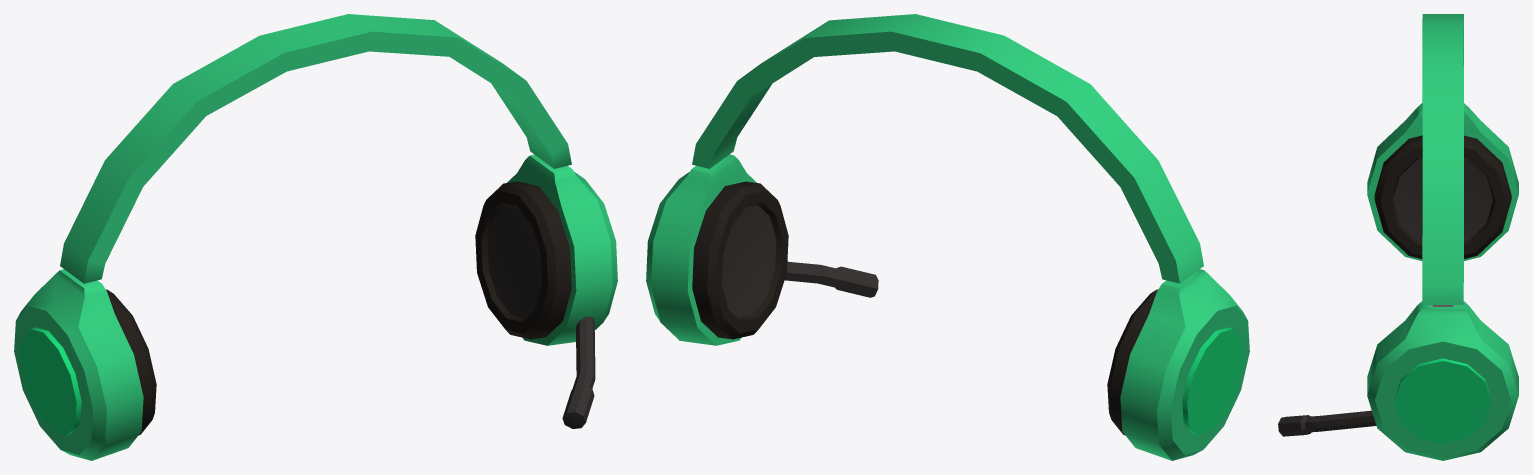
Rendered from Headphones_01_03.fbx.
3 renders of one model, left to right at view 1: azimuth 30°, elevation 25°; view 2: azimuth 150°, elevation 25°; view 3: azimuth 270°, elevation 25°, orthographic. The views are drawn at different scales.
Parts seen in each view (by area): view 1: Headphones_01_03; view 2: Headphones_01_03; view 3: Headphones_01_03.
Part boxes in pixels (x1=…): Headphones_01_03: x1=14, y1=14, x2=617, y2=460; Headphones_01_03: x1=646, y1=14, x2=1249, y2=460; Headphones_01_03: x1=1278, y1=14, x2=1518, y2=460.
Bounding box in the file's own units: 50.61 × 32.9 × 22.45.
